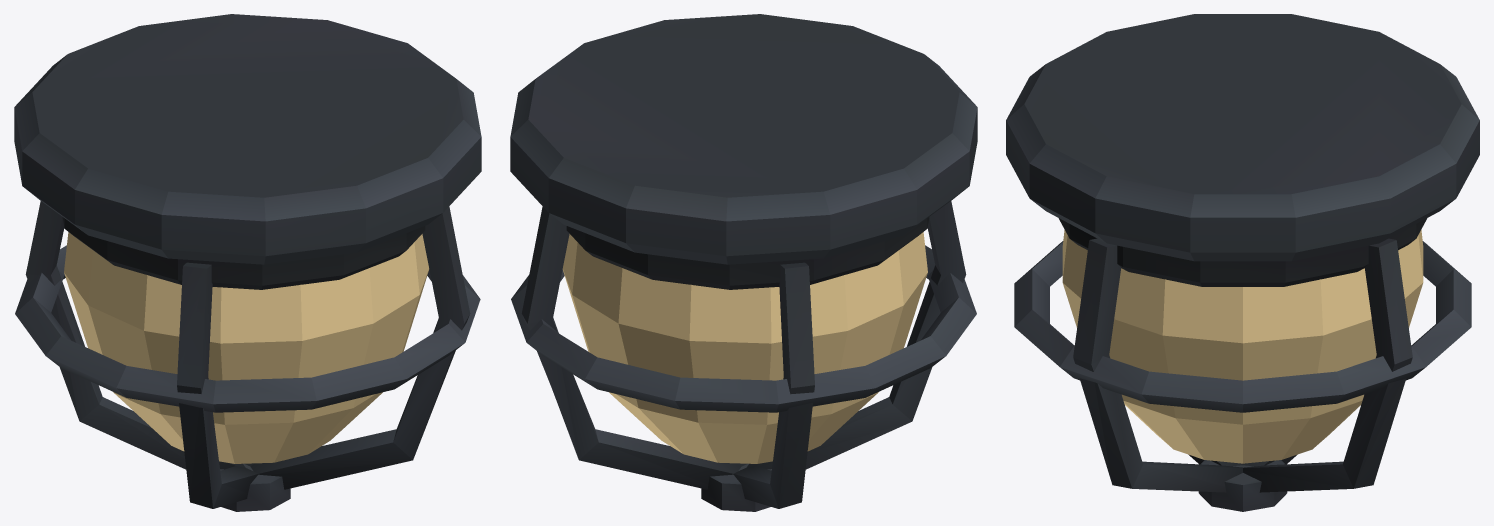
File: lamp_cage.glb
The picture shows the model from 3 angles, left to right: view 1: azimuth 30°, elevation 25°; view 2: azimuth 150°, elevation 25°; view 3: azimuth 270°, elevation 25°; orthographic projection.
Parts seen in each view (by area): view 1: Body, Bulb_glow; view 2: Body, Bulb_glow; view 3: Body, Bulb_glow.
Part boxes in pixels (<box>): Body: <box>14,14,481,511</box>; Bulb_glow: <box>64,232,429,463</box>; Body: <box>510,14,977,511</box>; Bulb_glow: <box>562,232,927,463</box>; Body: <box>1006,14,1479,511</box>; Bulb_glow: <box>1062,230,1423,463</box>.
Bounding box in the file's own units: 0.3163 × 0.29 × 0.32.
